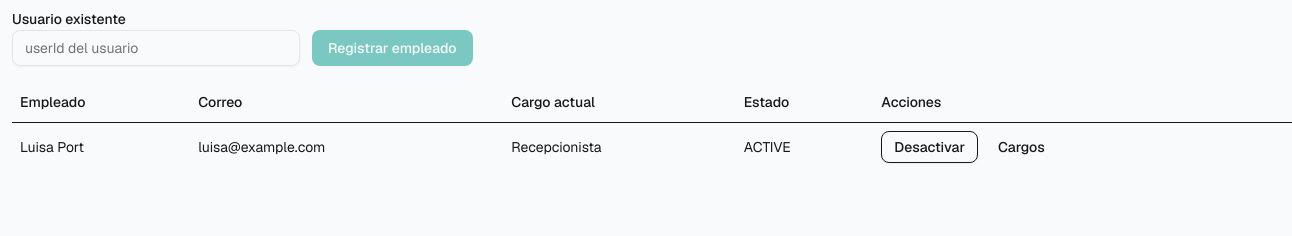
Personal (empleados) › registra empleado desde usuario existente (POST /employees)
The image size is (1292, 236).
Expected: the text "Luisa Port" is shown, [12,122,190,170]
Type "user-uuid-123" into the field labelled "Usuario existente" at [156, 48], box [12,30,300,66]
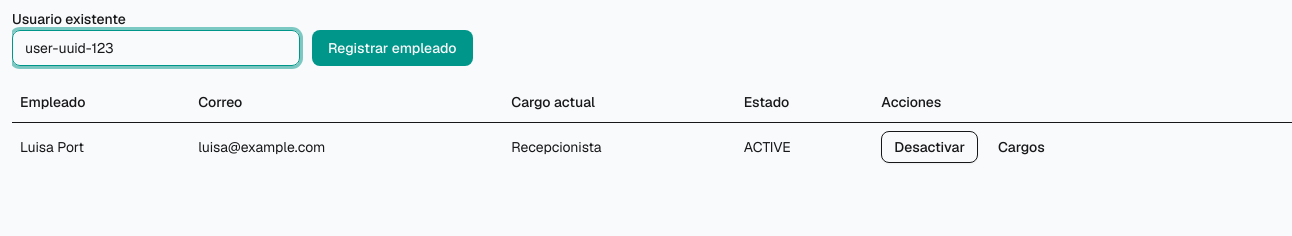
Click the button with test id "empleado-crear" at [392, 48], box [312,30,473,66]
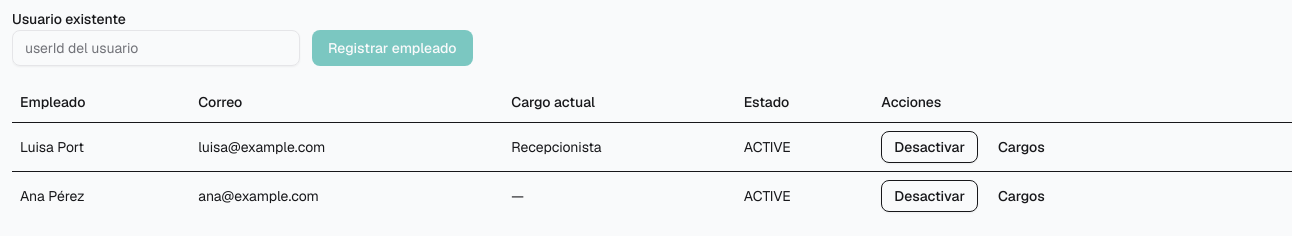
Expected: the text "Ana Pérez" is shown, [12,171,190,220]
